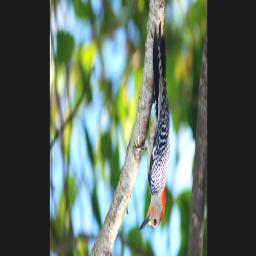Woodpecker: (133, 21, 170, 230)
